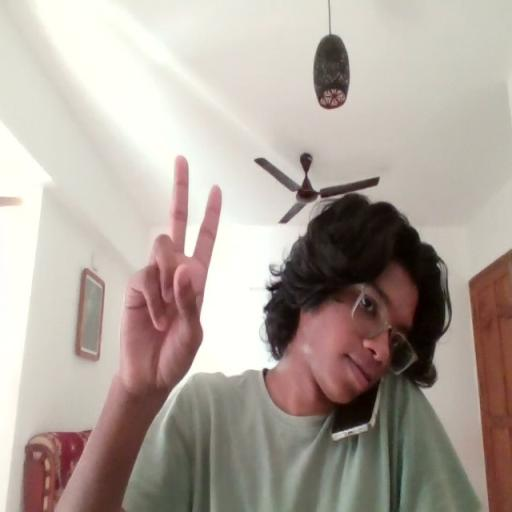scissor: (114, 153, 227, 395)
